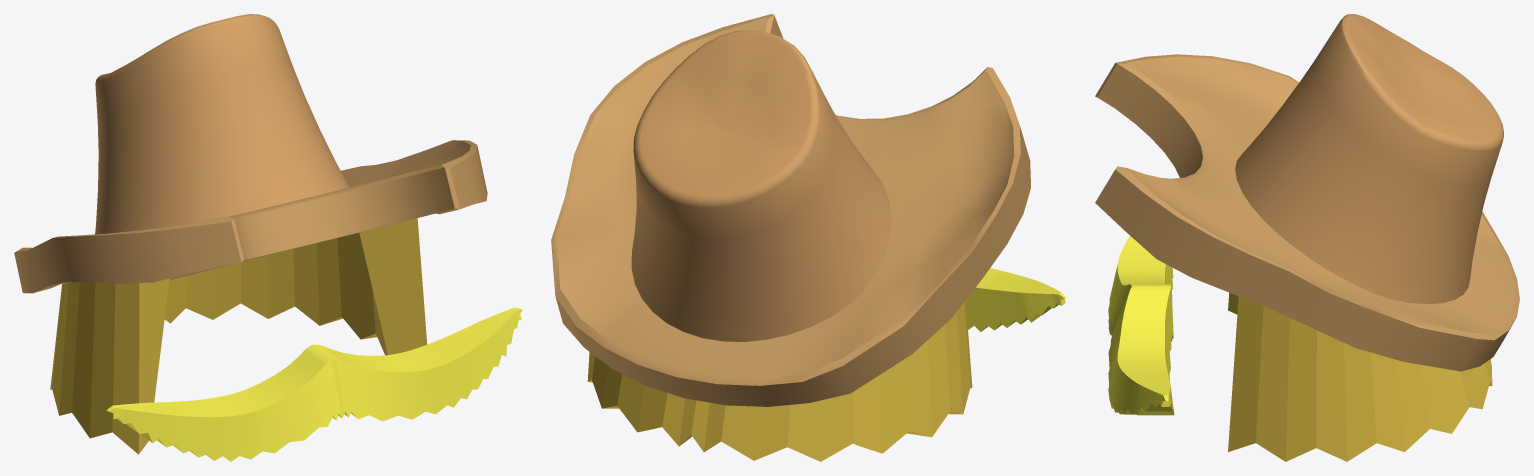
Rendered from papi_vitesse_hat_moustache_hair.fbx.
3 renders of one model, left to right at view 1: azimuth 30°, elevation 25°; view 2: azimuth 150°, elevation 25°; view 3: azimuth 270°, elevation 25°, orthographic.
Visible parts, largest first — view 1: Cylinder.001, Cylinder.004, Cylinder.006, Cube; view 2: Cylinder.006, Cylinder.001, Cylinder.004, Cube; view 3: Cylinder.001, Cylinder.006, Cylinder.004, Cube.
Part boxes in pixels (left/top/right/bottom): Cylinder.001: left=95, top=14, right=349, bottom=279; Cylinder.004: left=50, top=218, right=427, bottom=454; Cylinder.006: left=14, top=140, right=487, bottom=293; Cube: left=106, top=307, right=522, bottom=461; Cylinder.006: left=551, top=14, right=1030, bottom=406; Cylinder.001: left=631, top=30, right=891, bottom=341; Cylinder.004: left=587, top=300, right=972, bottom=461; Cube: left=965, top=268, right=1066, bottom=331; Cylinder.001: left=1235, top=14, right=1503, bottom=303; Cylinder.006: left=1095, top=54, right=1519, bottom=371; Cylinder.004: left=1228, top=292, right=1492, bottom=461; Cube: left=1108, top=236, right=1174, bottom=415.
Bounding box in the file's own units: 530 × 436 × 471.
